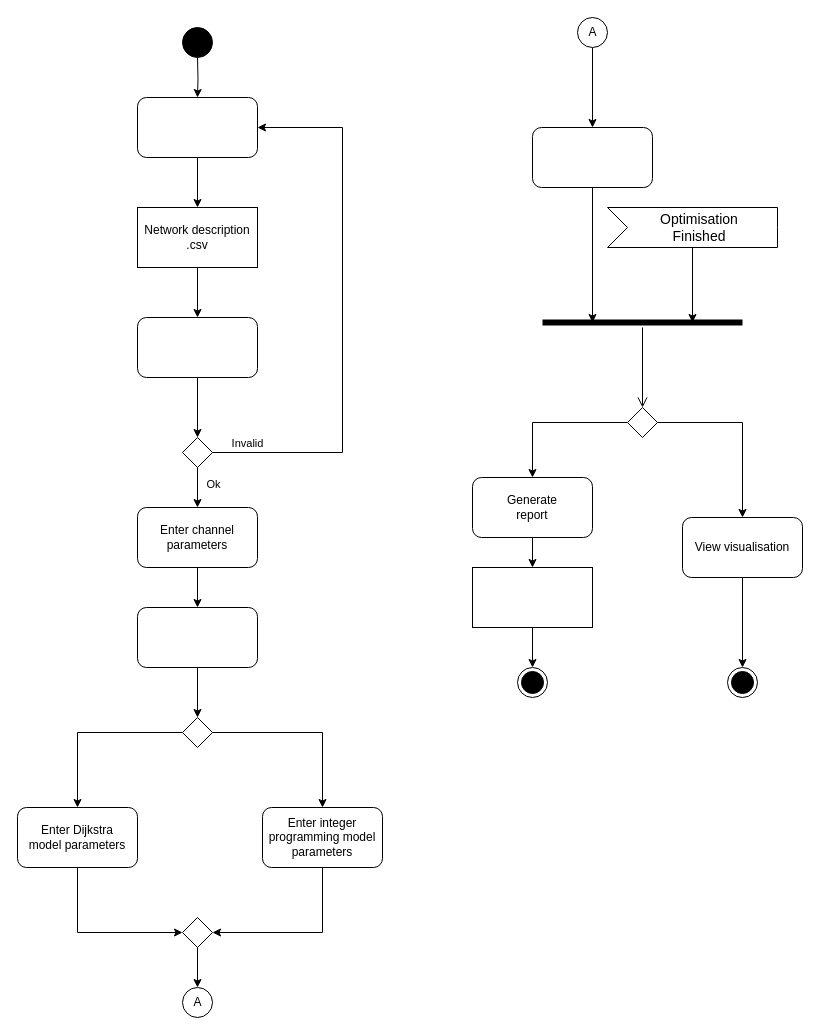
Some shapes in this 820 by 1035 pixel diagram are drawn without their labels. Here are the shapes that lost their labels. From the top down, the box of each, then its label:
(136, 96, 258, 158): Upload files
(532, 126, 652, 188): Request channel
(136, 316, 258, 378): Parse description
(472, 566, 592, 628): report.csv
(136, 606, 258, 668): Select model
